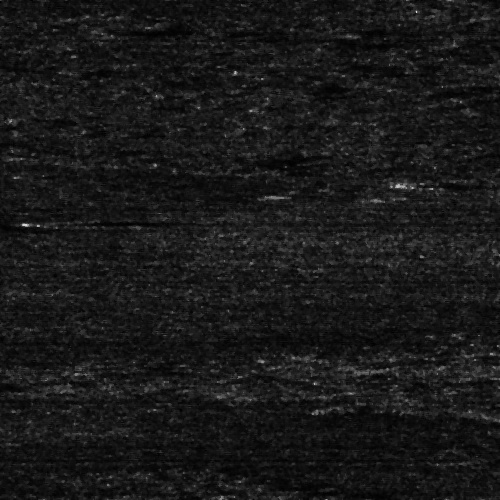object: (3, 216, 76, 223), (388, 179, 451, 184)
shadow: (40, 216, 154, 223), (420, 179, 500, 184)
